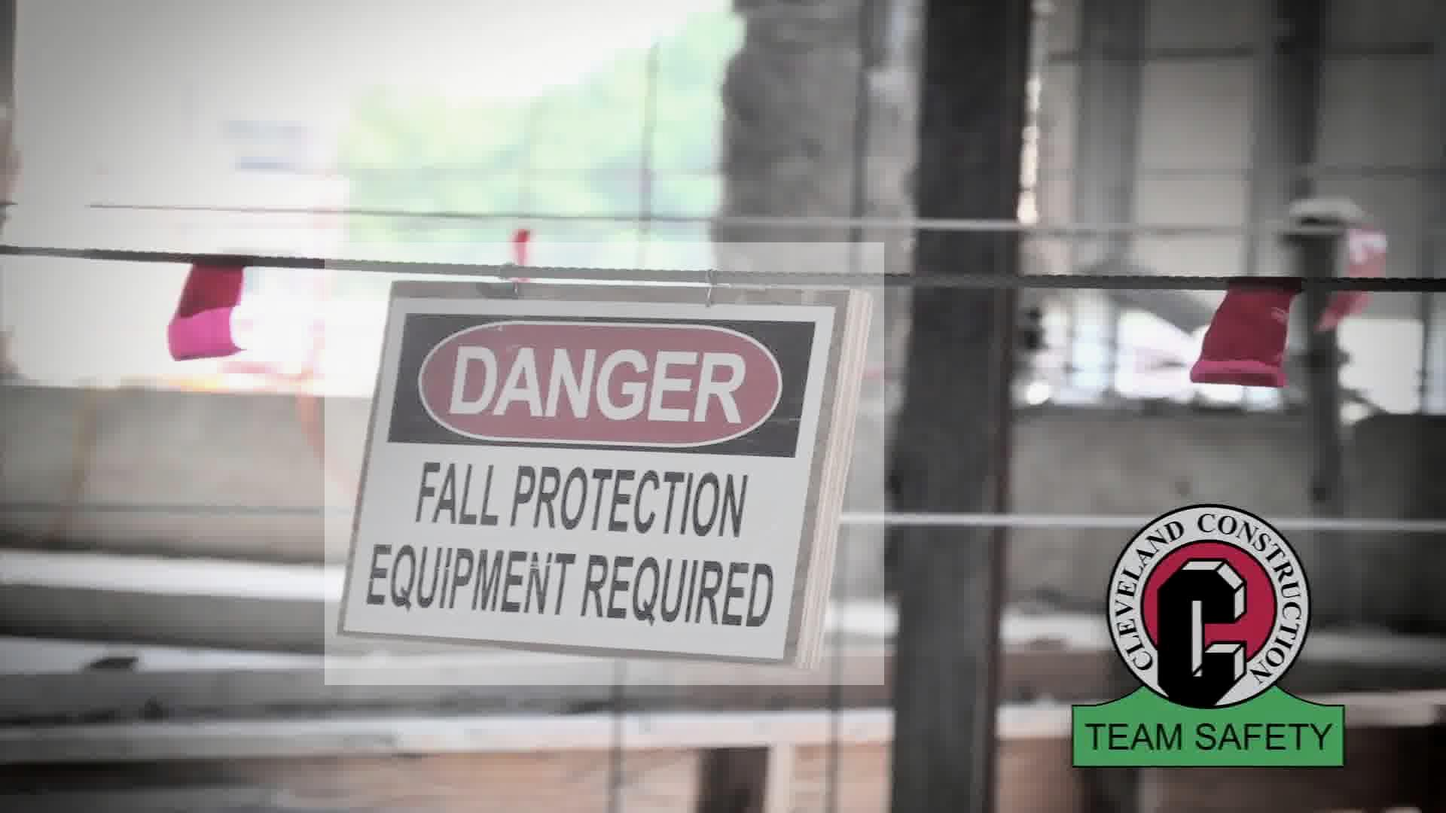safety_signage: (325, 242, 884, 685)
